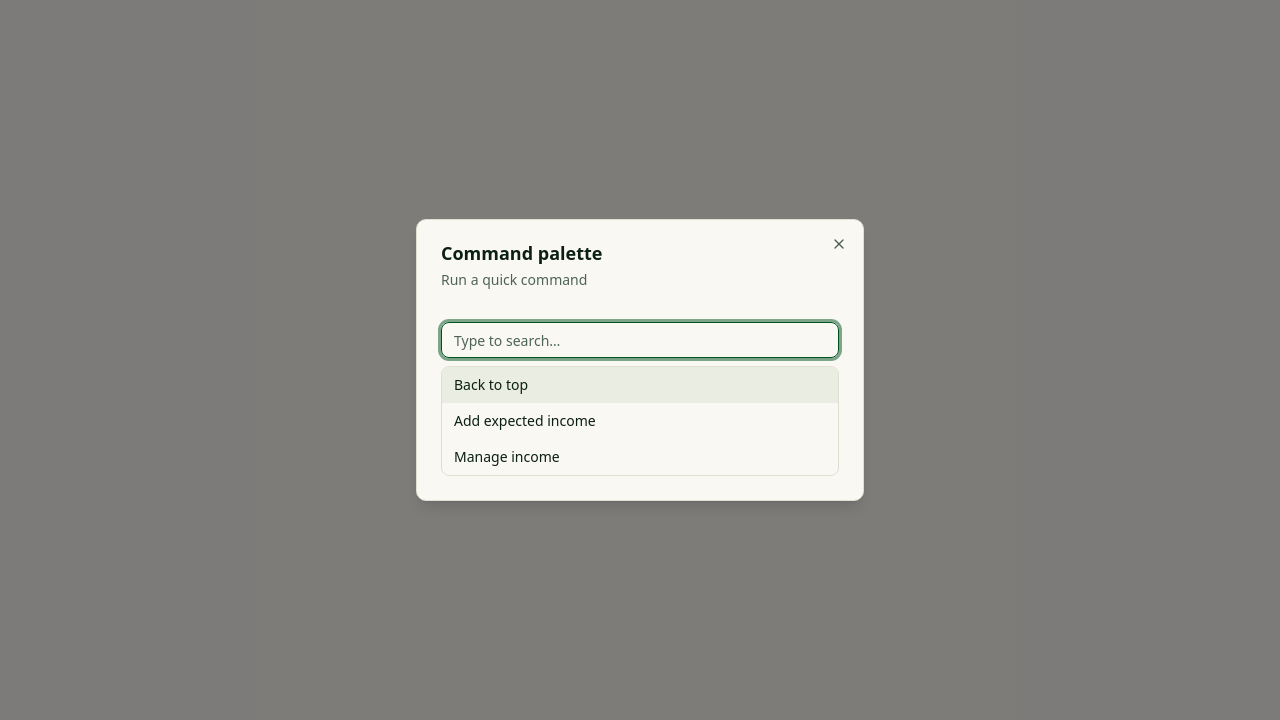
it: BudgetCommandPalette › filters commands by search
This screenshot has width=1280, height=720.
Step 1. Type "manage" into the field with placeholder "Type to search…" → (640,340), box [441,322,839,358]
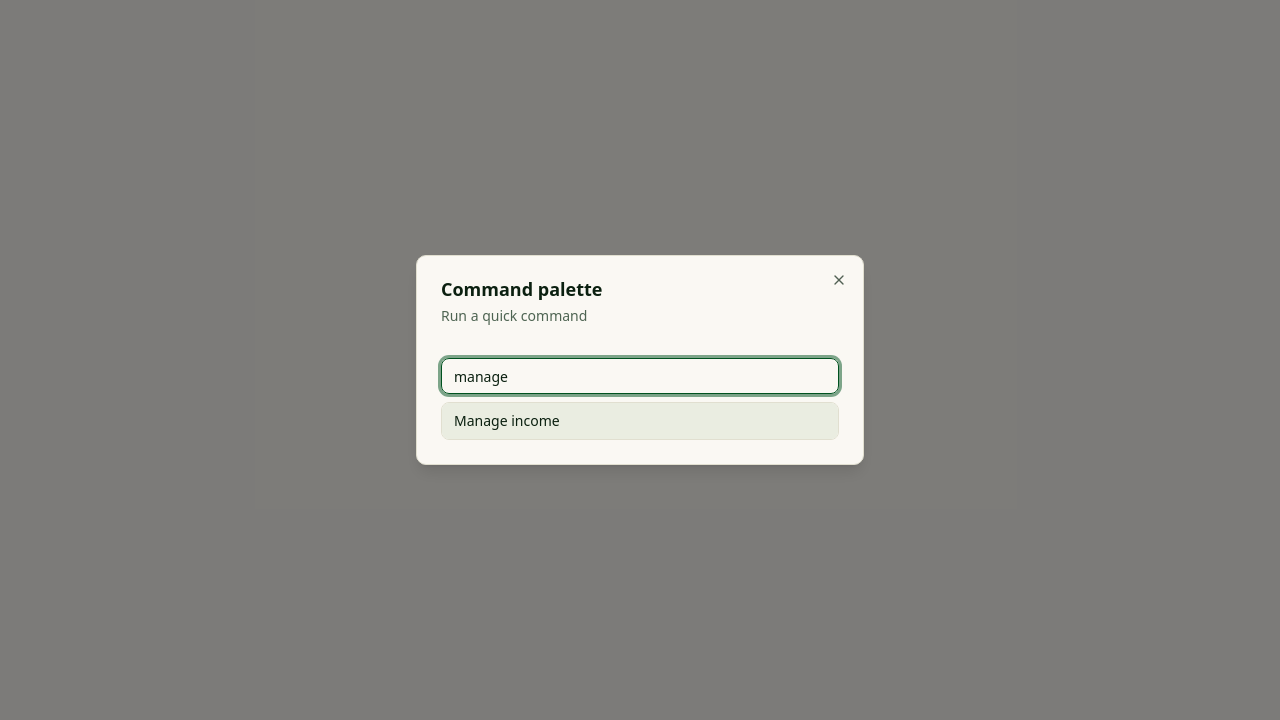
Expected: the option "Manage income" is shown, [442,403,838,439]
Expected: the option "Back to top" is gone
